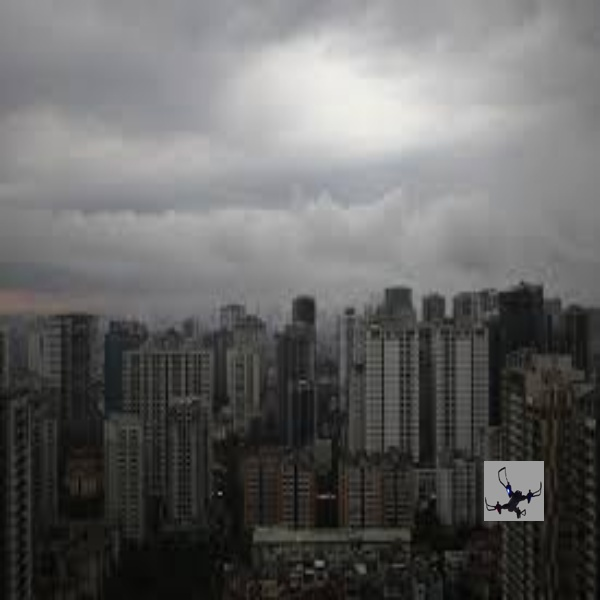drone: (485, 460, 546, 523)
